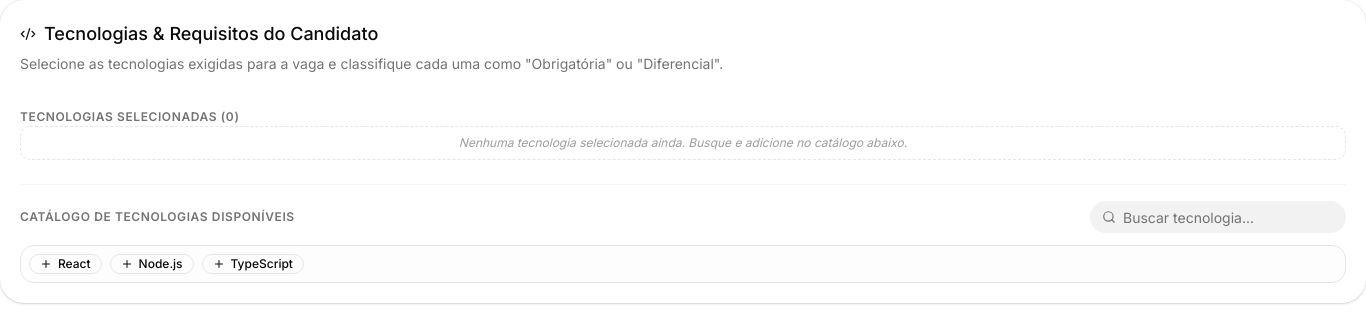
Test: JobTechnologiesSection Component › filters catalog technologies based on search term
Step 1. Type "Node" into the field with placeholder "Buscar tecnologia..." → (1218, 217), box [1090,201,1346,233]
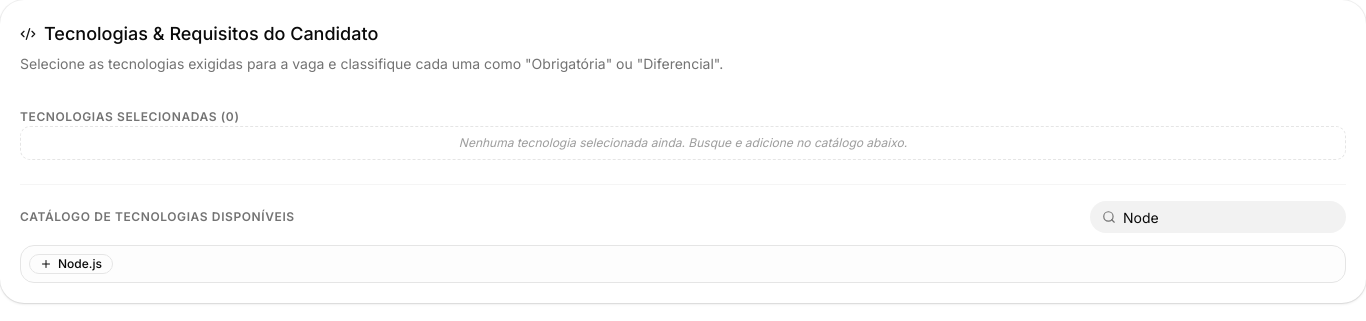
Check: the text "Node.js" is shown, box [29,254,113,274]
Check: the text "React" is gone
